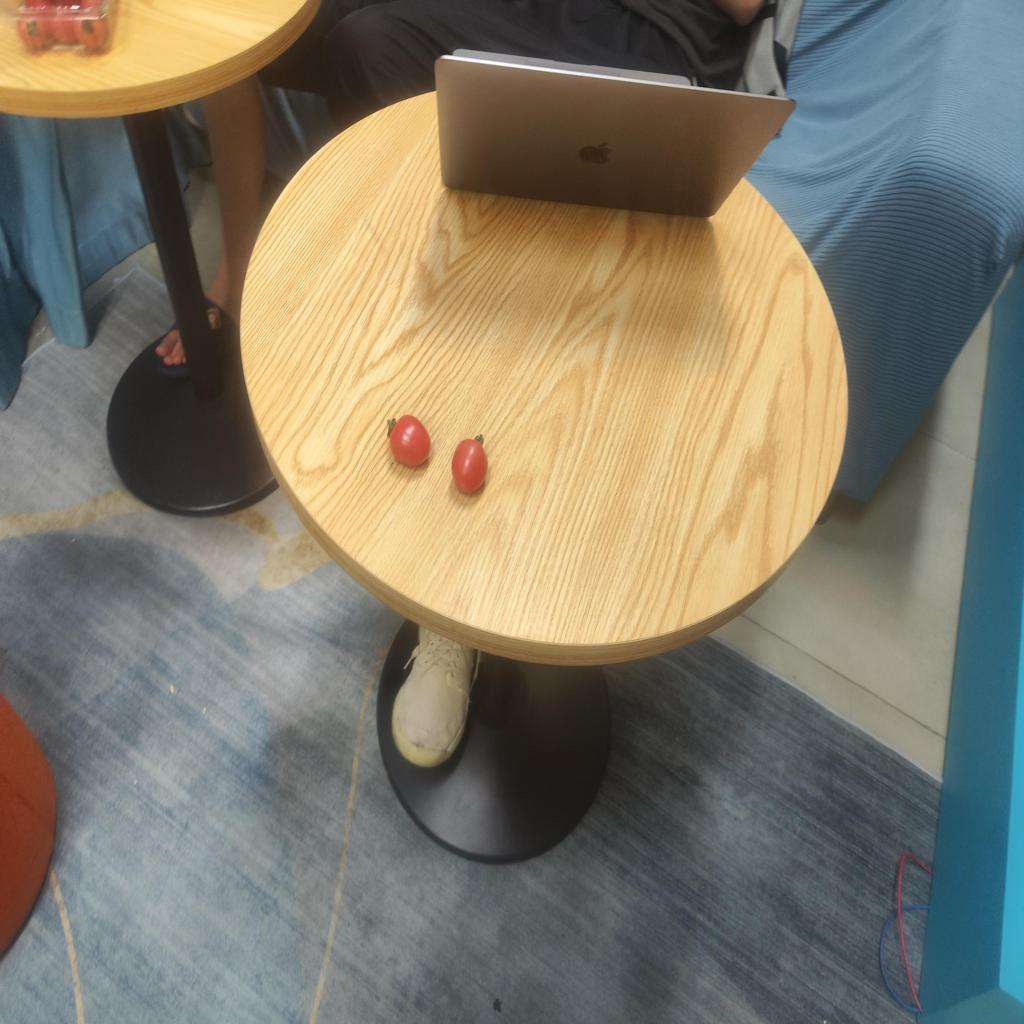tomato: (445, 434, 500, 499), (379, 403, 430, 469), (11, 15, 47, 54), (74, 14, 111, 51), (51, 7, 82, 42)
